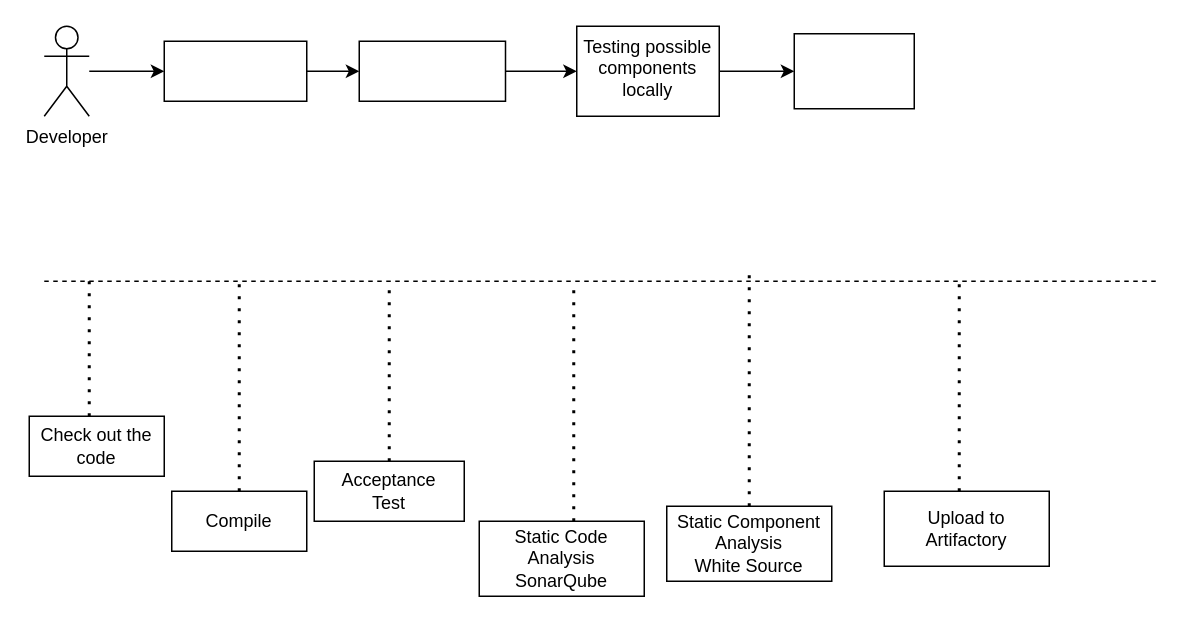
The diagram is 1184 pixels wide and 623 high, and some of its shapes have lost their labels. Here are the shapes that lost their labels. From the top down, the box of each, then its label:
(163, 40, 307, 101): Development
(358, 40, 506, 101): Unit Testing
(793, 32, 914, 109): Raise PR
